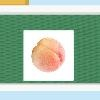half-ripe: (30, 36, 67, 74)
